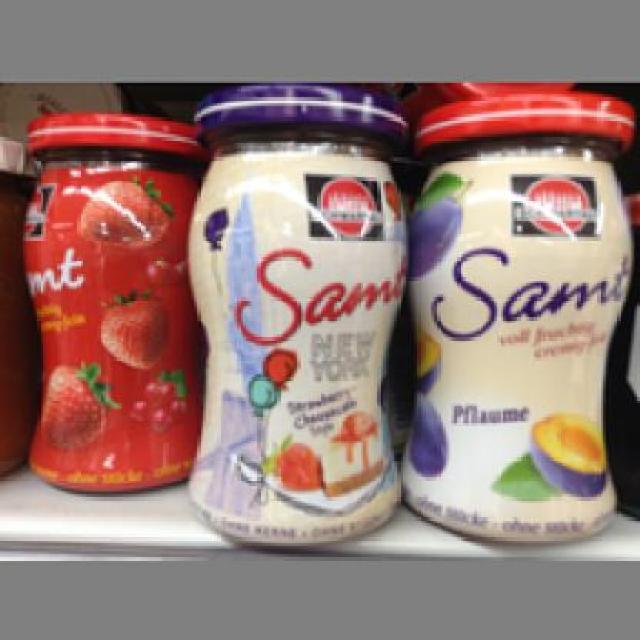Jam: (402, 88, 632, 546), (186, 80, 406, 549), (20, 114, 191, 492)
